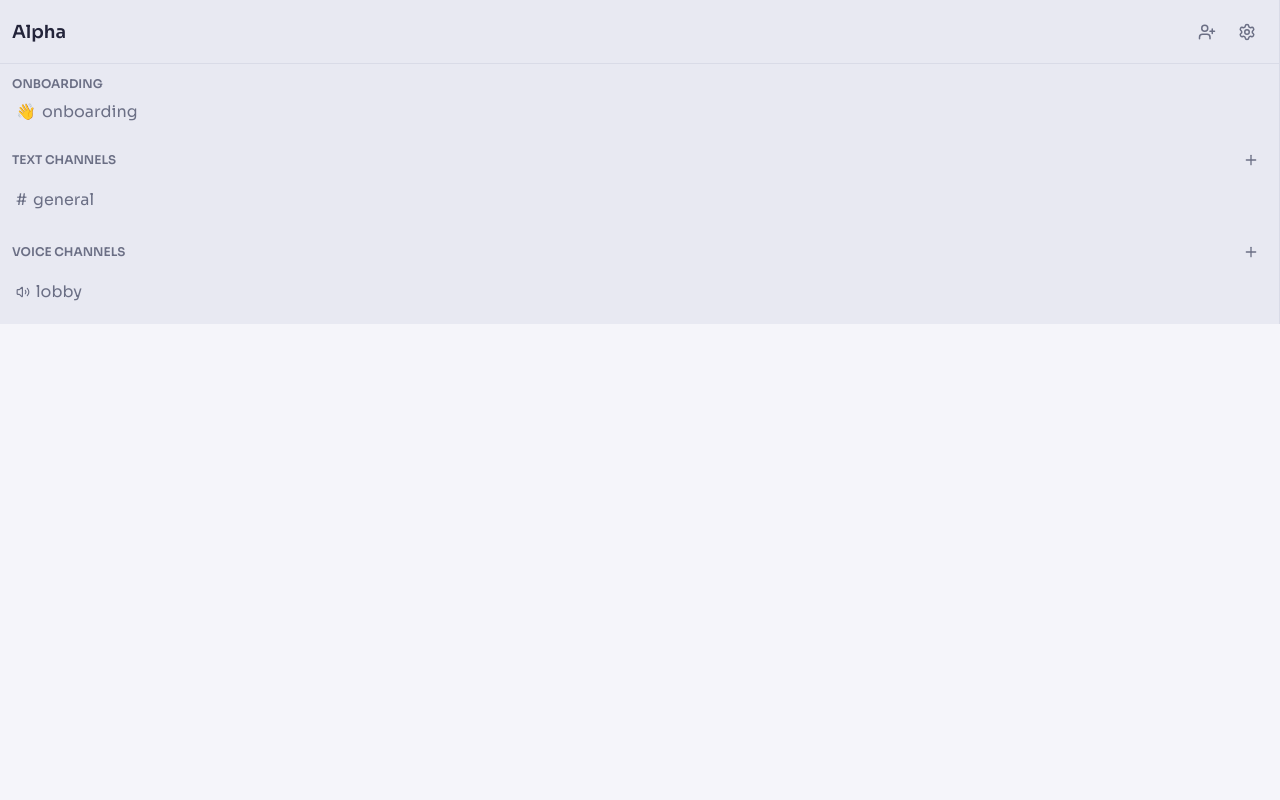
Test: ChannelSidebar › opens the invite people modal for a member with MANAGE_INVITES
This screenshot has width=1280, height=800.
expect the text "Alpha" is shown: met, box [12,18,66,46]
Step 1. Click the button named "Invite people" → (1207, 32), box [1187,12,1227,52]
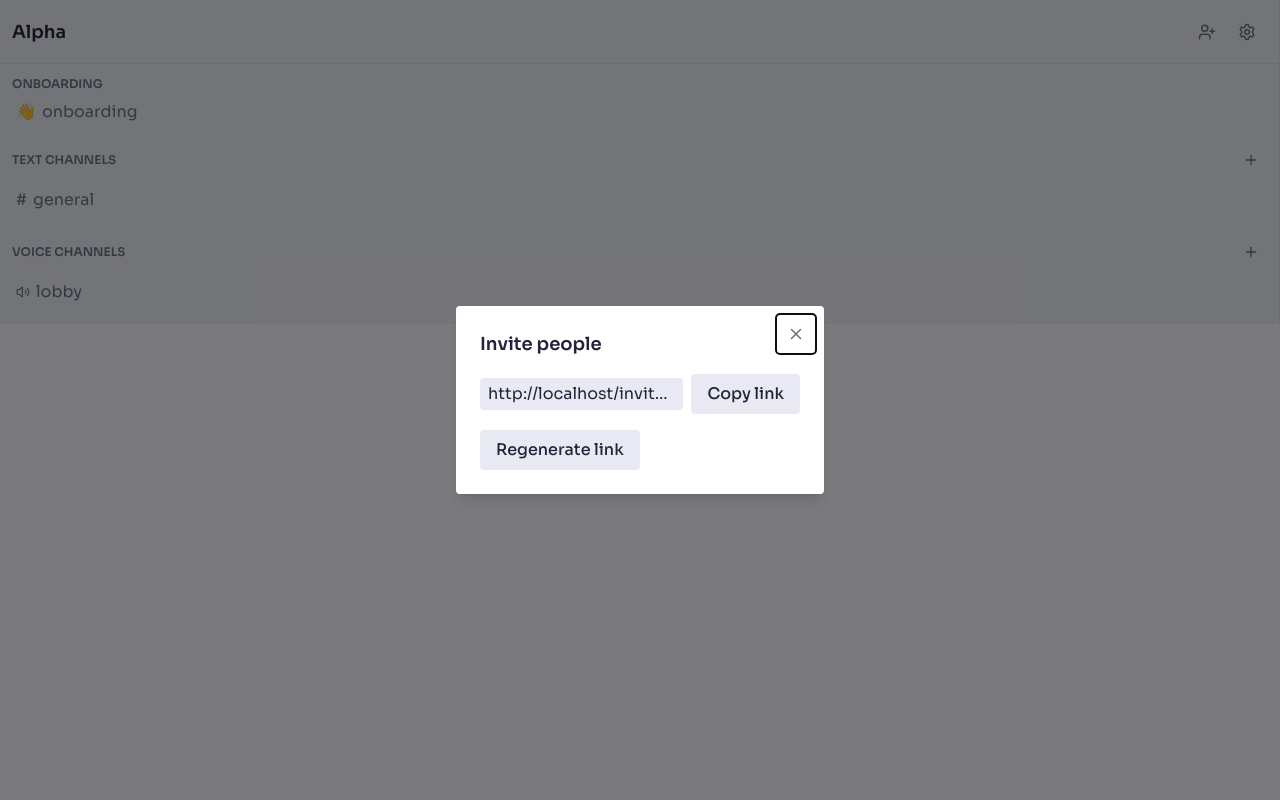
expect the heading "Invite people" is shown: met, box [480,333,602,355]
